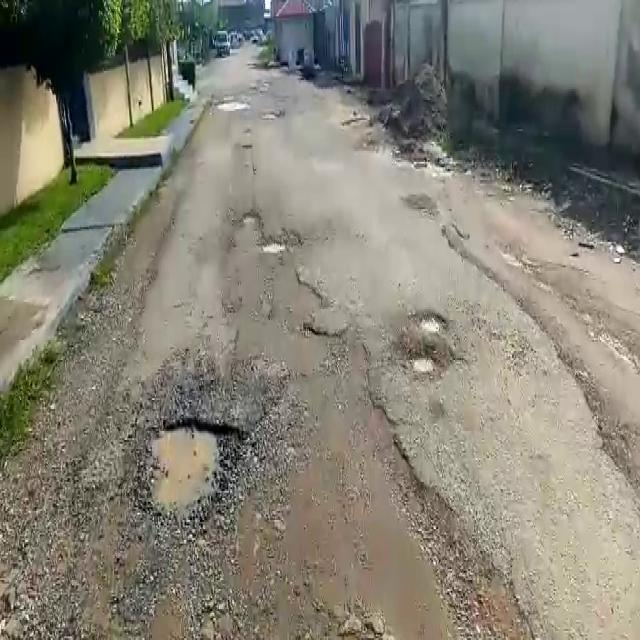Pothole: (140, 418, 243, 529), (414, 310, 446, 339), (410, 356, 436, 378), (259, 240, 289, 257), (238, 211, 263, 227)
